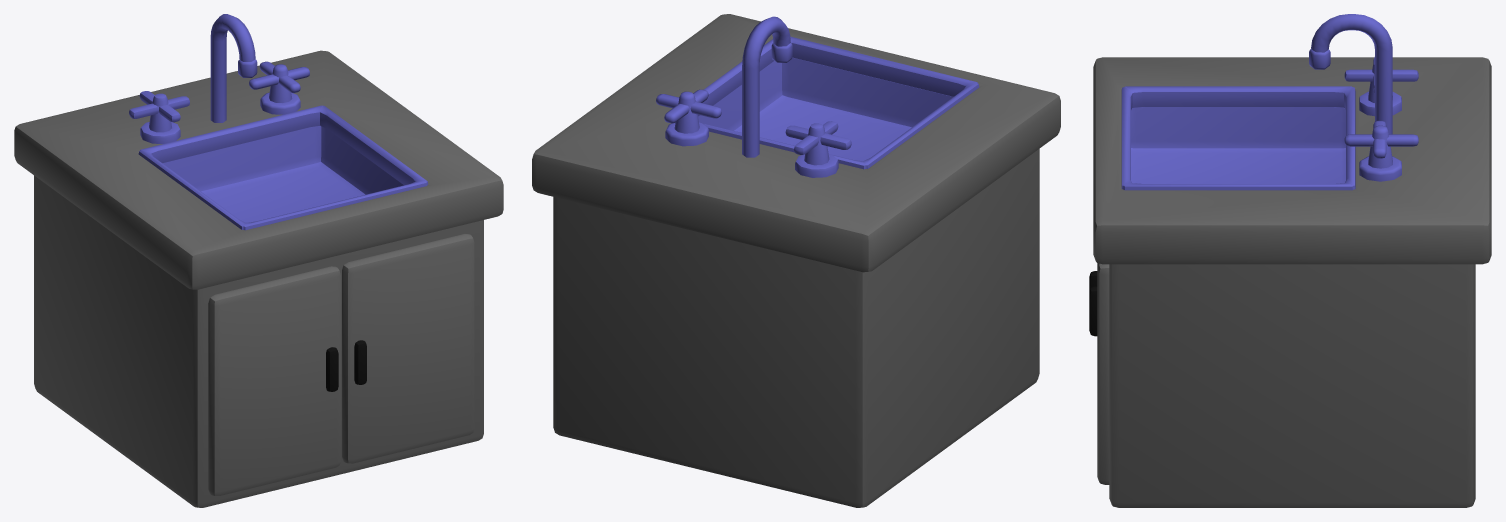
Rendered from SM_sink_kitchen.fbx.
3 renders of one model, left to right at view 1: azimuth 30°, elevation 25°; view 2: azimuth 150°, elevation 25°; view 3: azimuth 270°, elevation 25°, orthographic. The views are drawn at different scales.
Visible parts, largest first — view 1: Object098; view 2: Object098; view 3: Object098.
Boxes of the visible parts, x1,y1,x2,y2 form: Object098: [14, 14, 503, 507]; Object098: [532, 14, 1060, 507]; Object098: [1089, 14, 1491, 507].
Size of the model in its own units: 45.33 by 52.14 by 45.34.
